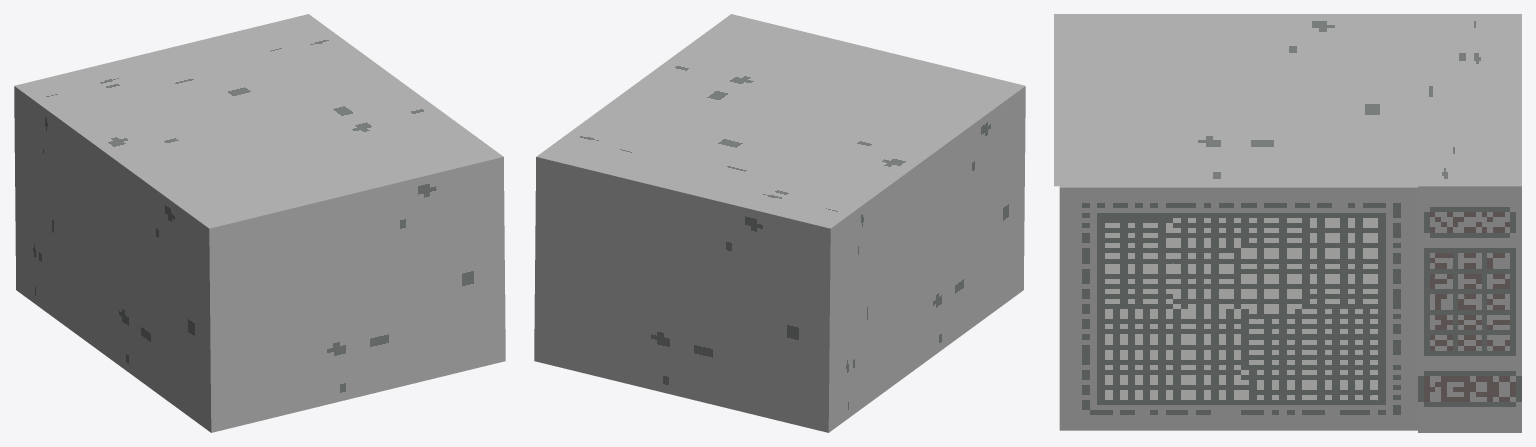
The model's file is microwave.glb.
3 renders of one model, left to right at view 1: azimuth 30°, elevation 25°; view 2: azimuth 150°, elevation 25°; view 3: azimuth 270°, elevation 25°, orthographic. The views are drawn at different scales.
Visible parts, largest first — view 1: Mesh_1.003; view 2: Mesh_1.003; view 3: Mesh_1.003, Mesh_0.024.
Part boxes in pixels (x1=…): Mesh_1.003: x1=14, y1=14, x2=505, y2=432; Mesh_1.003: x1=534, y1=14, x2=1025, y2=432; Mesh_1.003: x1=1054, y1=14, x2=1521, y2=432; Mesh_0.024: x1=1059, y1=186, x2=1417, y2=430.
Size of the model in its own units: 1.17 by 0.7734 by 1.34.
1 material, 1 textured.
